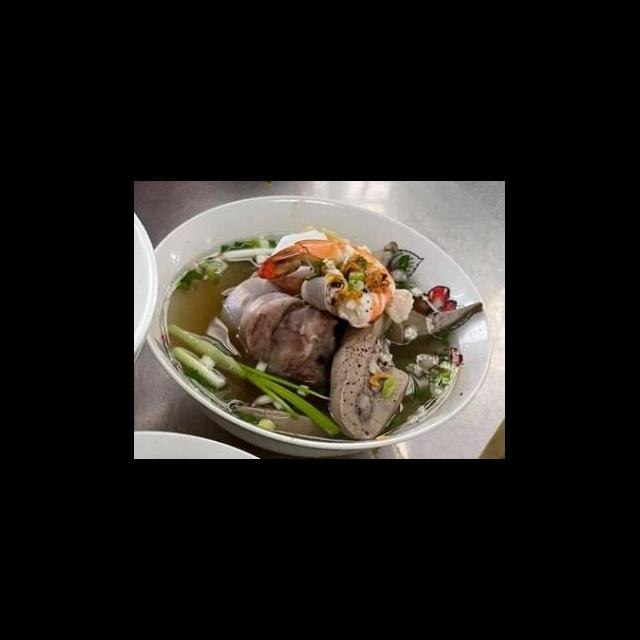gan: (362, 296, 488, 350)
tom: (253, 235, 399, 333)
